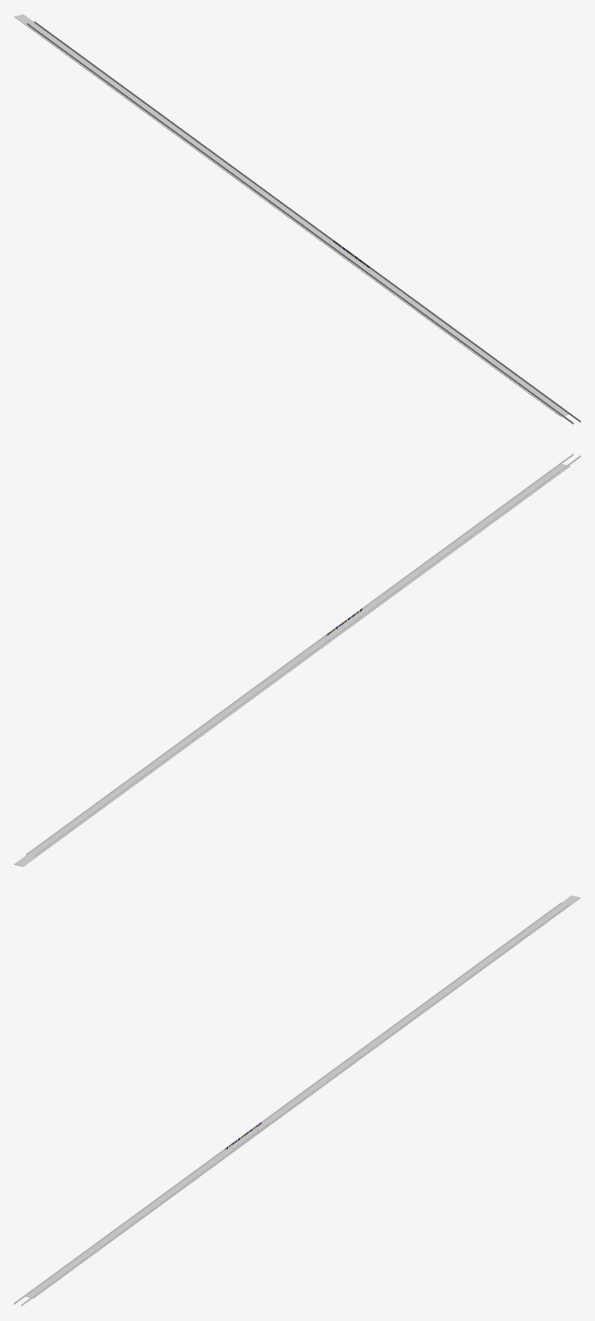
3 views of the same model, one above another, from view 1: azimuth 30°, elevation 25°; view 2: azimuth 150°, elevation 25°; view 3: azimuth 330°, elevation 25° (orthographic).
Parts seen in each view (by area): view 1: Floor, Wall front, Wall front.001; view 2: Floor, Wall front, Wall front.001; view 3: Floor, Wall front.001, Wall front.
Part boxes in pixels (box(x1,y1,x2,y2)): Floor: box(14, 14, 568, 416); Wall front: box(27, 22, 573, 424); Wall front.001: box(34, 21, 580, 422); Floor: box(14, 464, 570, 866); Wall front: box(33, 455, 580, 857); Wall front.001: box(26, 453, 573, 855); Floor: box(26, 895, 580, 1298); Wall front.001: box(21, 904, 568, 1306); Wall front: box(14, 902, 561, 1304).
Size of the model in its own units: 20 by 4.74 by 2043.
83 materials, 80 textured.
